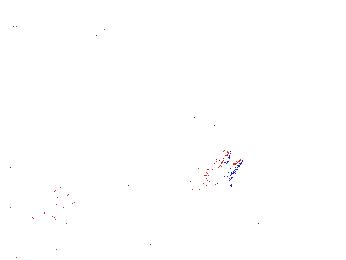flame jellyfish: (237, 141, 293, 206), (189, 148, 245, 208)
